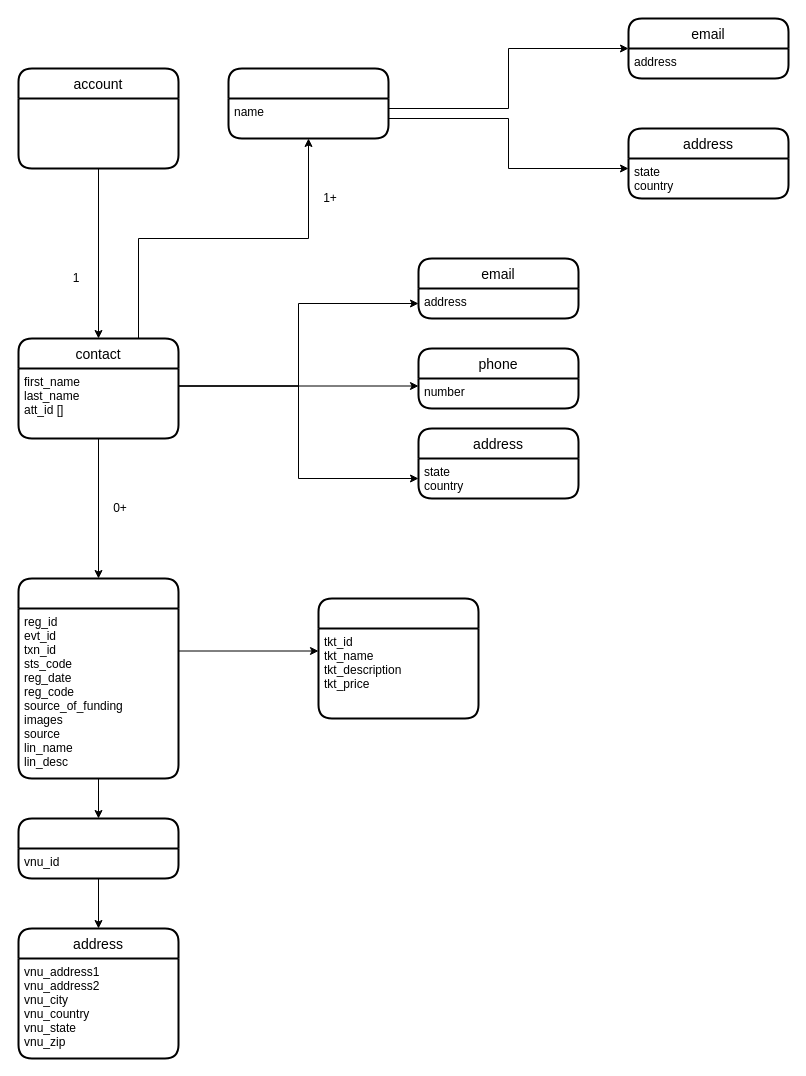
The diagram is 806 pixels wide and 1076 high, and some of its shapes have lost their labels. Each missing label, with the box of its shape:
agency: (227, 67, 389, 139)
registration: (17, 577, 179, 779)
ticket: (317, 597, 479, 719)
venue: (17, 817, 179, 879)
